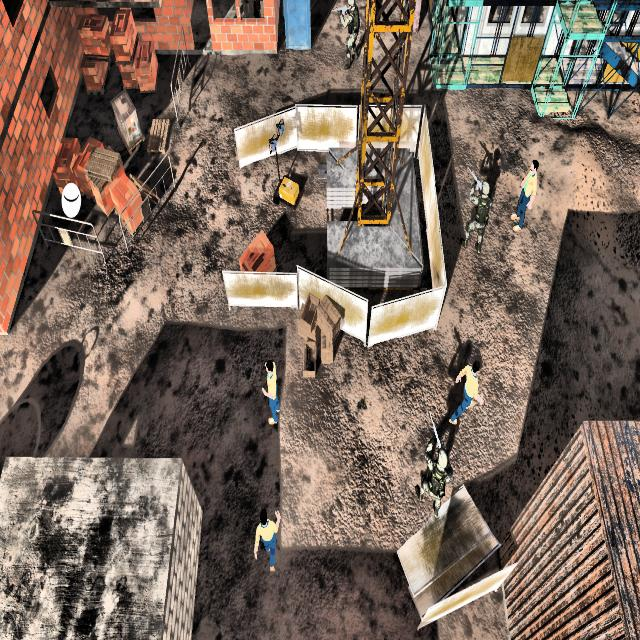bad: (458, 158, 490, 263), (416, 422, 451, 516), (330, 0, 363, 69)
good: (244, 493, 287, 579), (446, 344, 482, 432), (508, 144, 540, 241), (252, 352, 287, 431)
